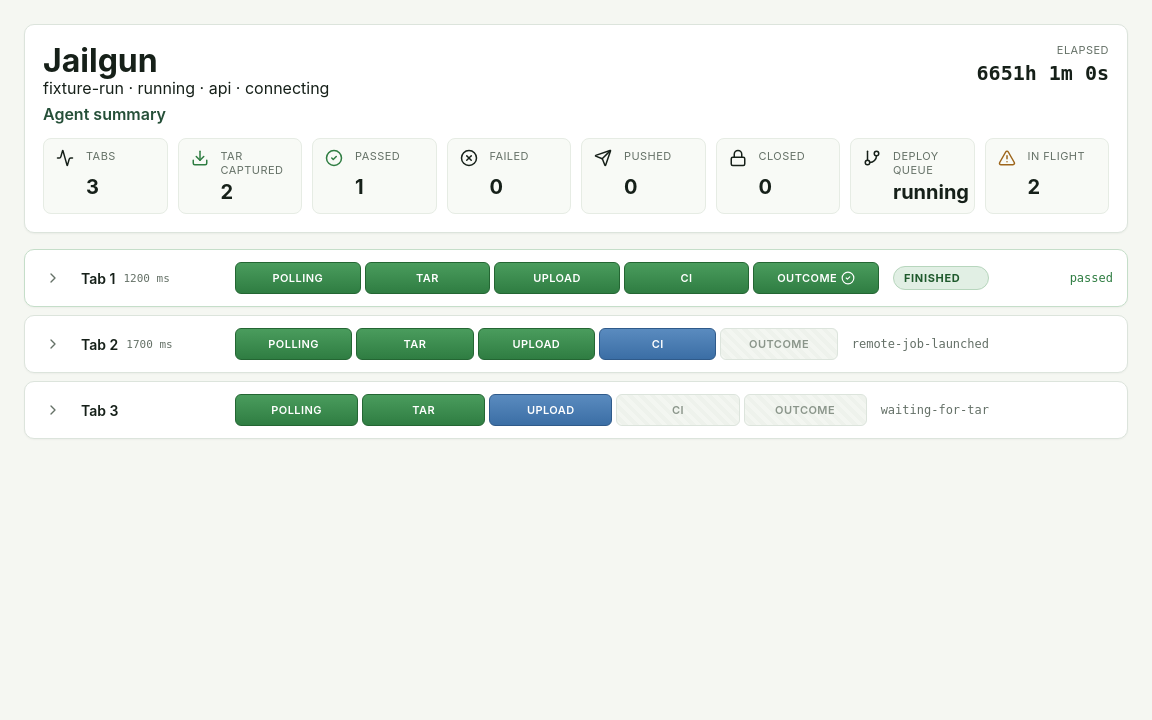
Test: lists files changed inside the drilldown
The width and height of the screenshot is (1152, 720).
expect the element named "tab 1 row" is shown: met, box top-left (24, 249), bottom-right (1128, 307)
Click the button named "expand tab 1": (53, 278) top-left (39, 266), bottom-right (67, 290)
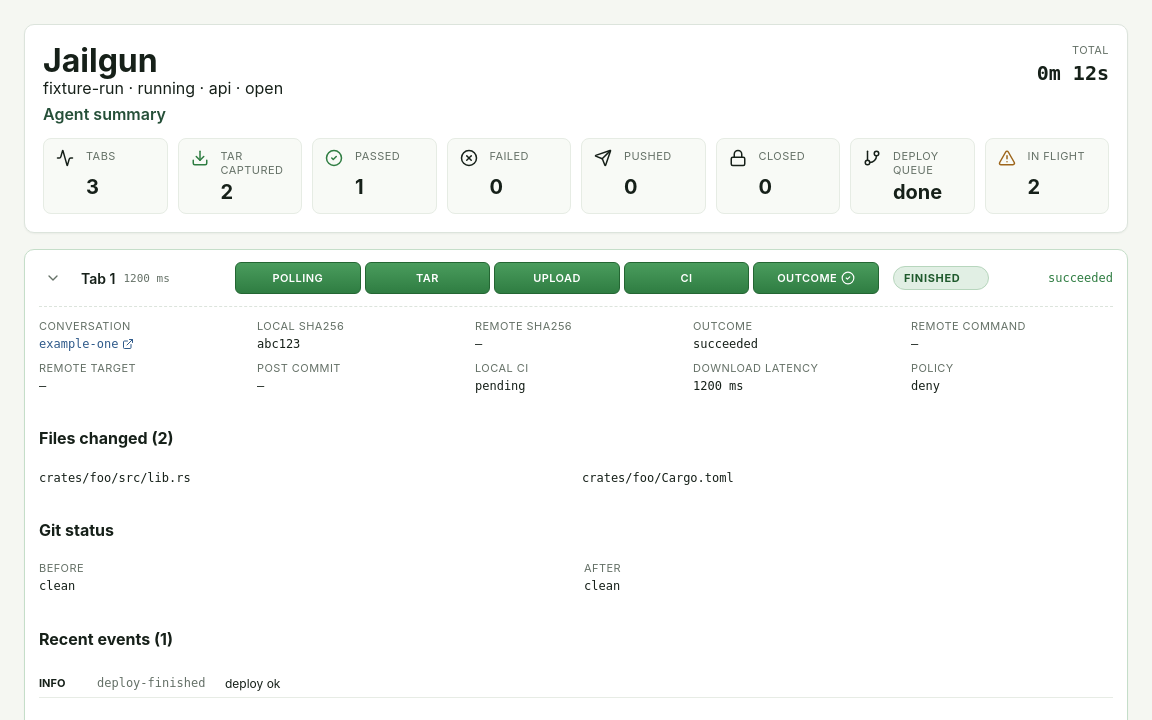
expect the text "crates/foo/src/lib.rs" is shown: met, box top-left (39, 471), bottom-right (191, 485)
expect the text "crates/foo/Cargo.toml" is shown: met, box top-left (582, 471), bottom-right (734, 485)
